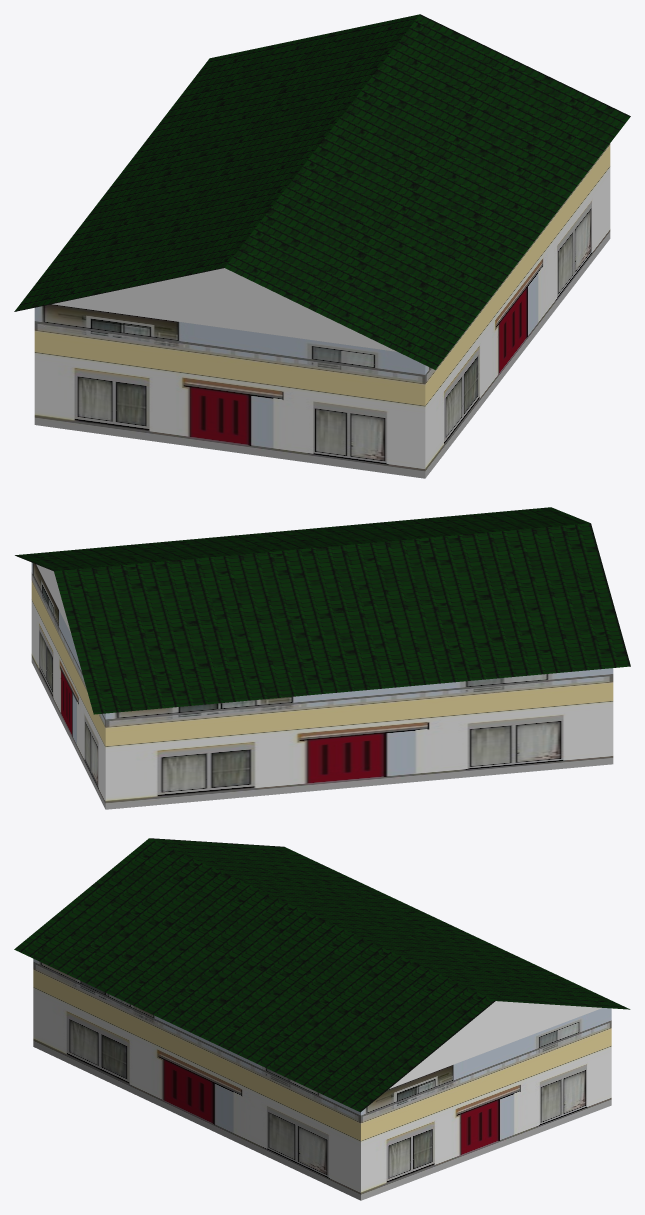
3 renders of one model, top to bottom at view 1: azimuth 30°, elevation 25°; view 2: azimuth 150°, elevation 25°; view 3: azimuth 270°, elevation 25°, orthographic. The views are drawn at different scales.
Visible parts, largest first — view 1: CityEngineMaterial_13_m, CityEngineMaterial_15_m, CityEngineMaterial_3_m; view 2: CityEngineMaterial_13_m, CityEngineMaterial_15_m, CityEngineMaterial_3_m; view 3: CityEngineMaterial_13_m, CityEngineMaterial_15_m, CityEngineMaterial_3_m.
Part boxes in pixels (<box>): CityEngineMaterial_13_m: <box>14,14,630,369</box>; CityEngineMaterial_15_m: <box>34,143,610,478</box>; CityEngineMaterial_3_m: <box>52,268,397,351</box>; CityEngineMaterial_13_m: <box>15,507,630,714</box>; CityEngineMaterial_15_m: <box>31,562,613,809</box>; CityEngineMaterial_3_m: <box>36,564,71,634</box>; CityEngineMaterial_13_m: <box>14,838,630,1112</box>; CityEngineMaterial_15_m: <box>33,959,611,1200</box>; CityEngineMaterial_3_m: <box>389,1001,601,1088</box>.
Bounding box in the file's own units: 44.45 × 12.22 × 43.63.
